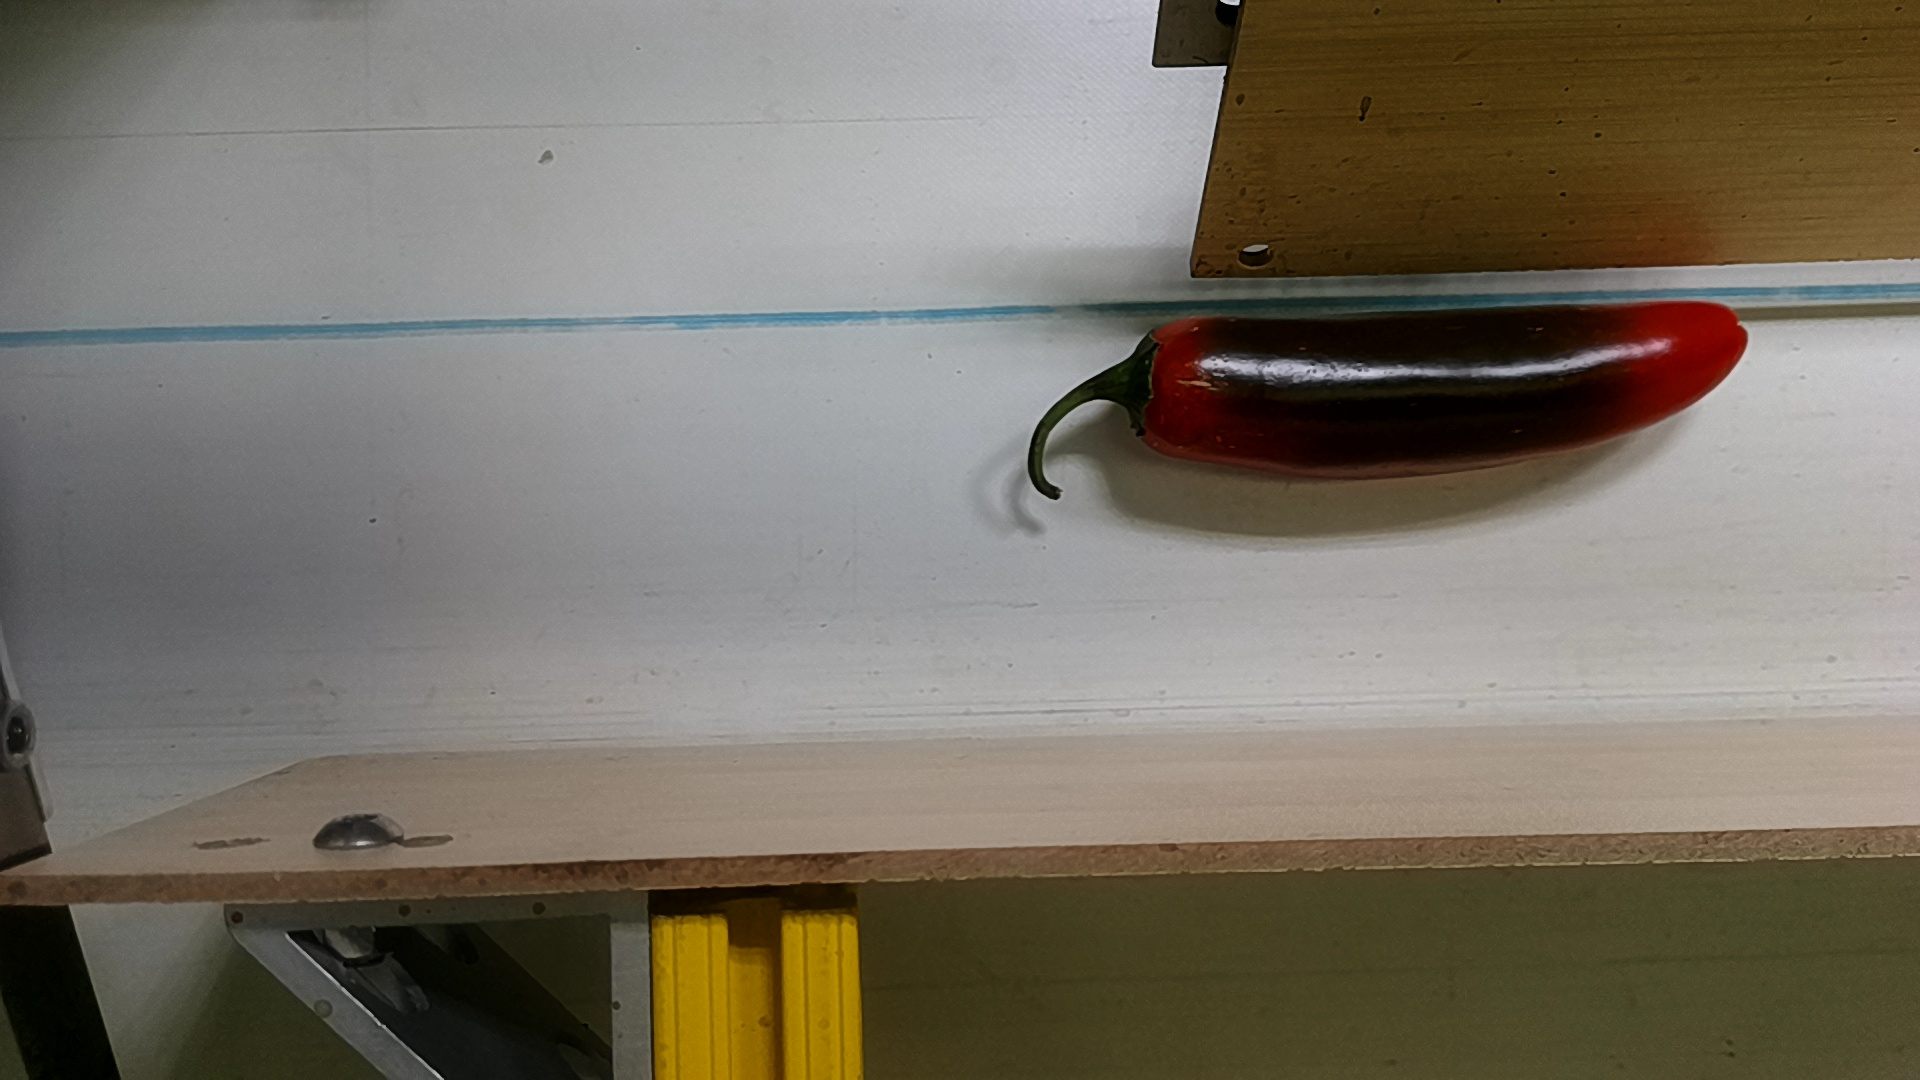Cut Point: (1105, 311, 1197, 469)
